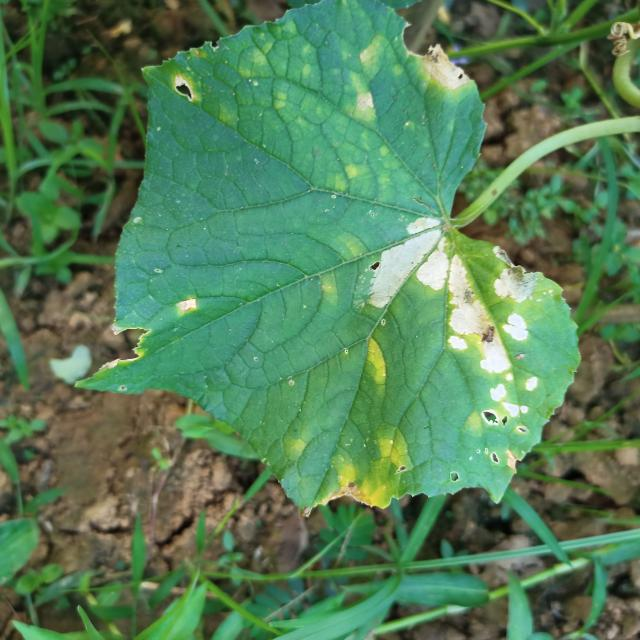disease_cucumber: (360, 210, 556, 462), (324, 415, 414, 514), (332, 36, 394, 120), (359, 330, 398, 392)
